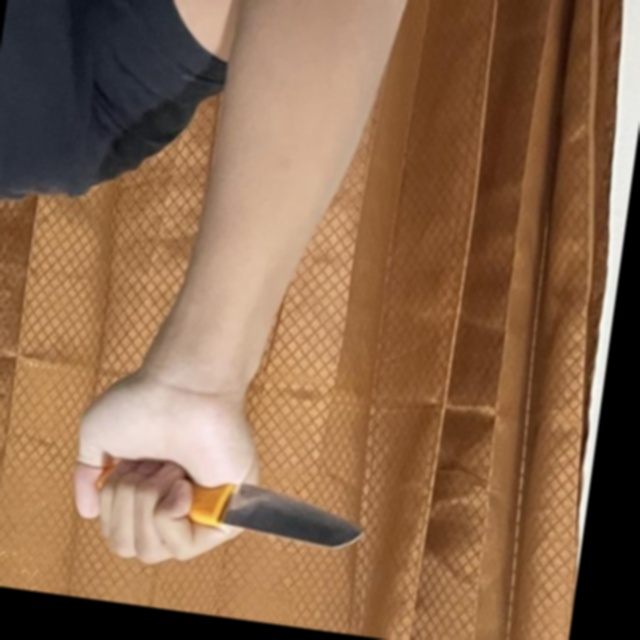Sharp-Object: (91, 460, 374, 557)
